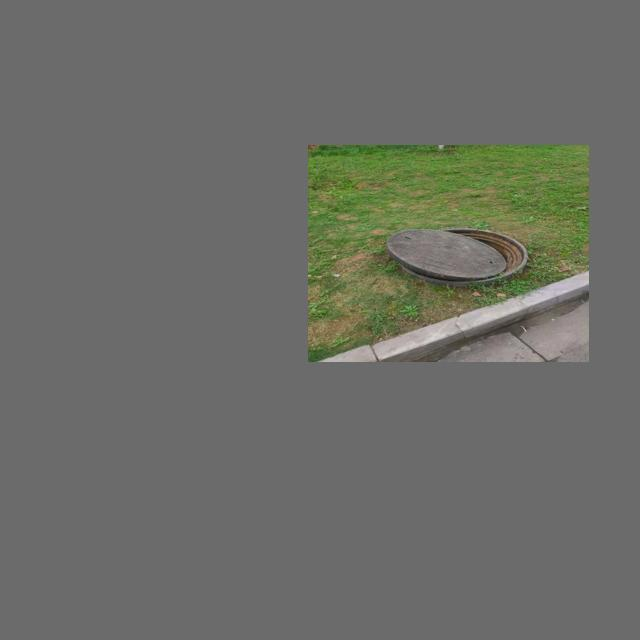uncovered: (386, 227, 530, 286)
